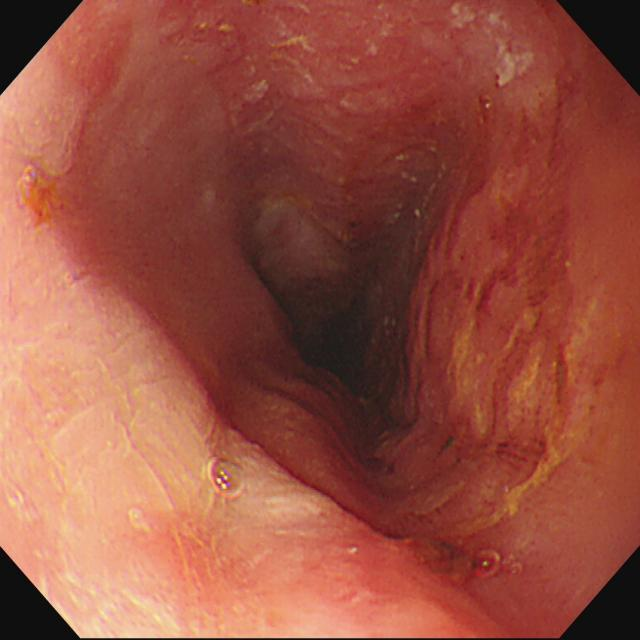A: (398, 151, 587, 502), (60, 2, 136, 154), (405, 505, 465, 578), (17, 167, 69, 231)
E: (312, 316, 367, 368)
J: (270, 2, 396, 118), (448, 2, 537, 88), (242, 52, 270, 103)
T: (209, 459, 247, 500), (473, 549, 503, 580)
